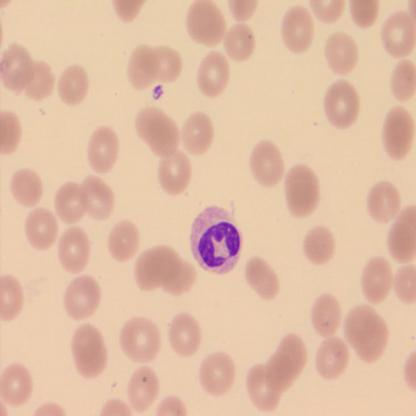Segmented neutrophil: (187, 202, 244, 277)
